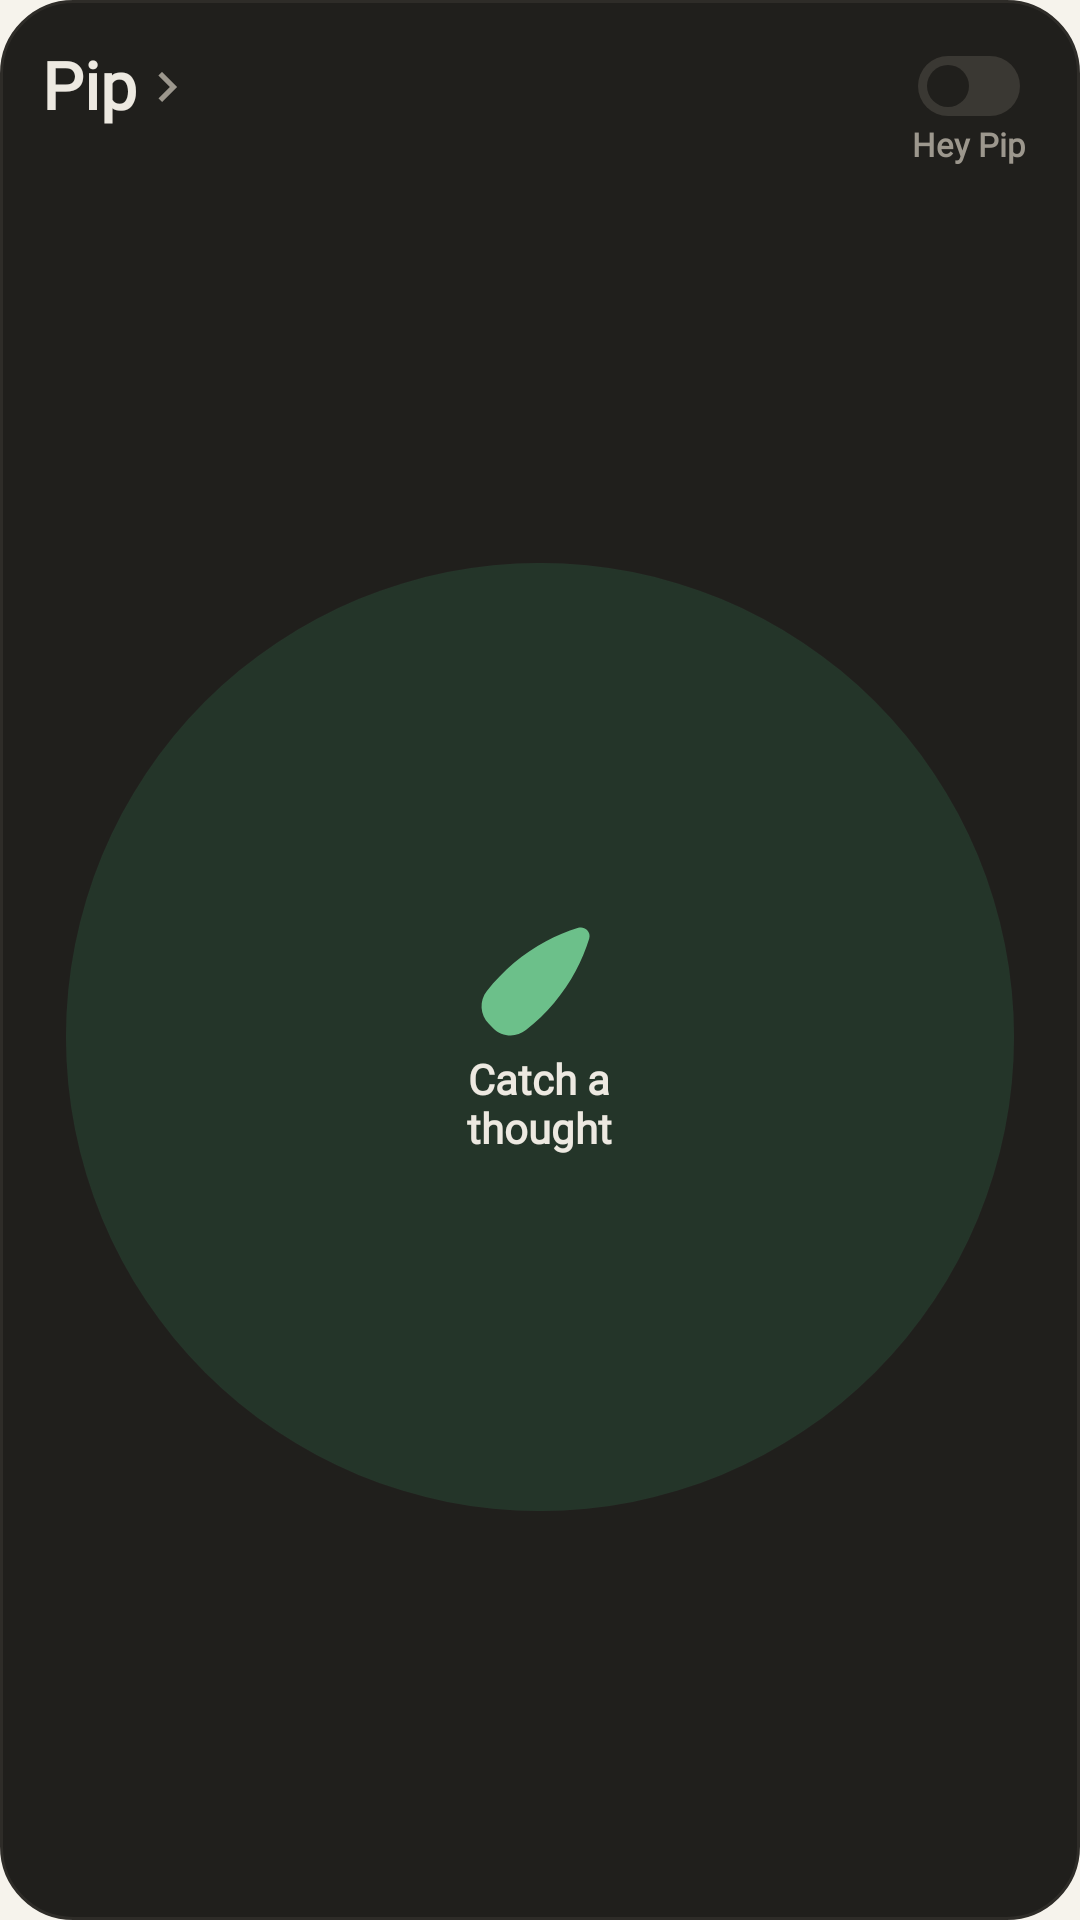

Icon click points for this 1080px×1920px phone screenshot, format (x,y):
chevron right: (167,87)
seed: (535,981)
widget sw off: (969,86)
